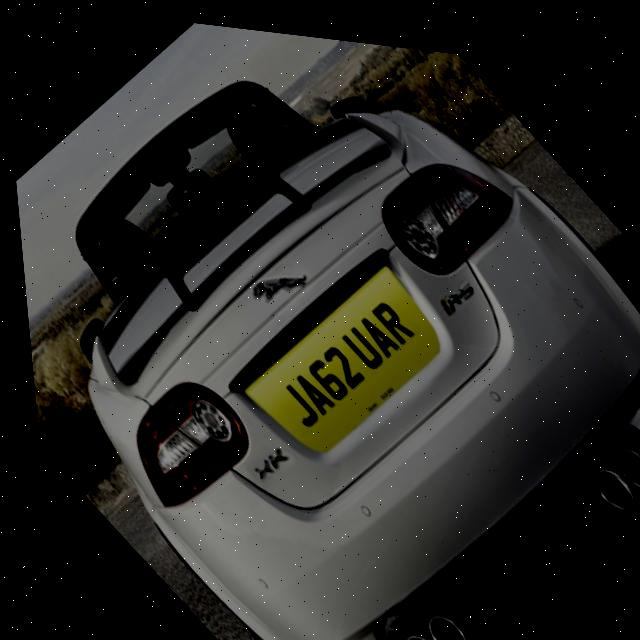license_plate: (224, 242, 456, 473)
